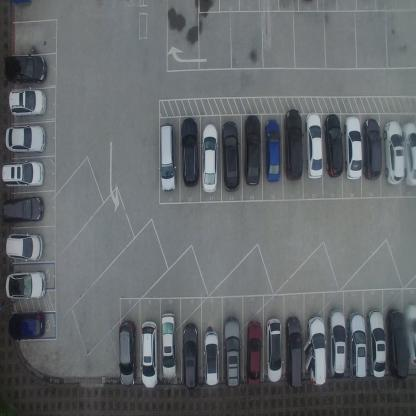car: (384, 309, 409, 381), (326, 306, 347, 380), (383, 119, 405, 185), (220, 120, 240, 192), (283, 108, 303, 180), (366, 306, 386, 378), (347, 310, 367, 381), (307, 314, 327, 385), (180, 117, 199, 188), (285, 316, 303, 390), (222, 316, 240, 390), (324, 113, 344, 179), (118, 319, 137, 388), (4, 53, 46, 84), (140, 318, 158, 390), (201, 123, 219, 194), (5, 123, 46, 154), (2, 160, 44, 190), (5, 230, 44, 262), (362, 118, 382, 180), (305, 111, 323, 179), (181, 322, 199, 390), (8, 308, 45, 341), (2, 195, 44, 224), (159, 123, 176, 194), (5, 270, 46, 299), (244, 114, 260, 188), (245, 321, 262, 387), (9, 88, 46, 118), (266, 315, 282, 384), (264, 118, 281, 182), (345, 116, 362, 180), (161, 312, 177, 380), (203, 328, 220, 388), (403, 301, 415, 367)
